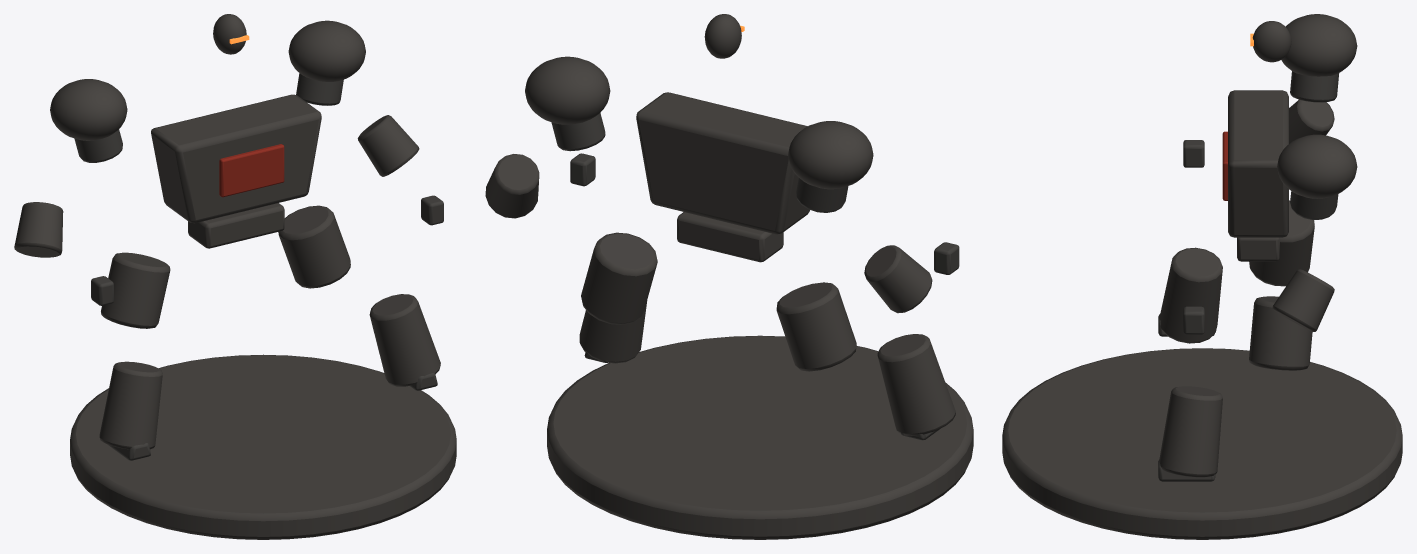
File: foundries_frame_artillery.glb
3 views of the same model, side by side, from view 1: azimuth 30°, elevation 25°; view 2: azimuth 150°, elevation 25°; view 3: azimuth 270°, elevation 25° (orthographic). The views are drawn at different scales.
Visible parts, largest first — view 1: standin_base, t, standin_shin_L, standin_shin_R, standin_thigh_L, standin_thigh_R, standin_pauldron_R, standin_pauldron_L, standin_pelvis, tp, standin_forearm_R, standin_forearm_L (+5 smaller); view 2: standin_base, t, standin_shin_R, standin_thigh_L, standin_thigh_R, standin_pauldron_R, standin_pauldron_L, standin_pelvis, standin_forearm_R, standin_forearm_L, standin_shin_L, standin_arm_L (+4 smaller); view 3: standin_base, t, standin_shin_L, standin_shin_R, standin_pauldron_L, standin_pauldron_R, standin_thigh_L, standin_thigh_R, standin_forearm_L, standin_forearm_R, h, standin_arm_R (+4 smaller).
Part boxes in pixels (x1,y1,x2,y2): standin_base: (70,354,456,539); t: (151,94,321,223); standin_shin_L: (369,294,440,386); standin_shin_R: (99,361,162,449); standin_thigh_L: (278,205,350,288); standin_thigh_R: (101,252,170,328); standin_pauldron_R: (50,79,127,140); standin_pauldron_L: (288,20,365,81); standin_pelvis: (188,203,284,248); tp: (219,144,284,197); standin_forearm_R: (14,202,63,257); standin_forearm_L: (357,115,419,176); standin_base: (547,335,973,539); t: (636,92,809,234); standin_shin_R: (877,334,955,435); standin_thigh_L: (581,232,657,324); standin_thigh_R: (776,282,856,371); standin_pauldron_R: (788,121,873,189); standin_pauldron_L: (525,56,610,124); standin_pelvis: (677,212,783,262); standin_forearm_R: (864,245,932,313); standin_forearm_L: (485,154,539,218); standin_shin_L: (579,300,647,363); standin_arm_L: (551,113,605,151); standin_base: (1002,348,1402,539); t: (1228,90,1288,237); standin_shin_L: (1159,386,1222,477); standin_shin_R: (1159,247,1222,343); standin_pauldron_L: (1277,134,1357,198); standin_pauldron_R: (1281,14,1357,76); standin_thigh_L: (1249,296,1312,370); standin_thigh_R: (1249,200,1314,286); standin_forearm_L: (1272,269,1334,331); standin_forearm_R: (1289,99,1334,143); h: (1252,21,1291,62); standin_arm_R: (1290,71,1339,102).
Bounding box in the file's own units: 47.71 × 48.02 × 40.
